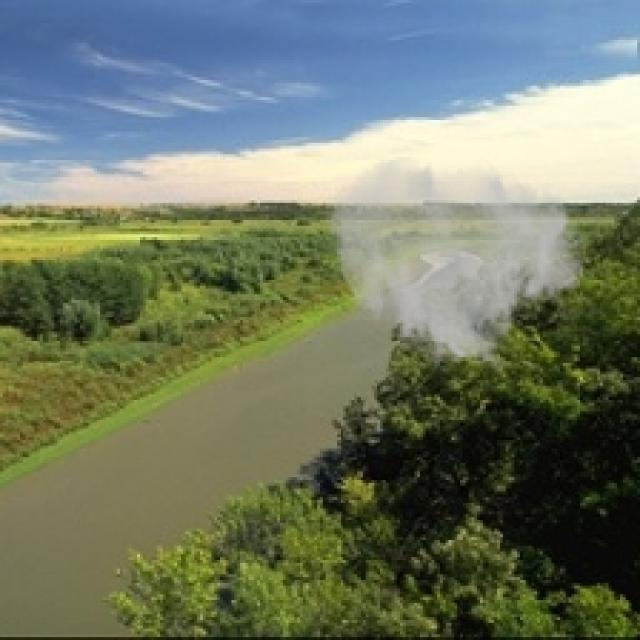smoke: (323, 154, 588, 374)
